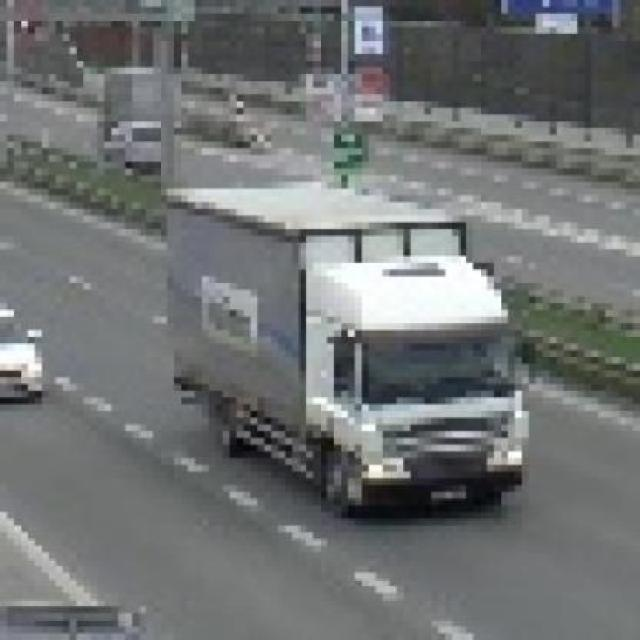truck: (163, 181, 528, 522)
